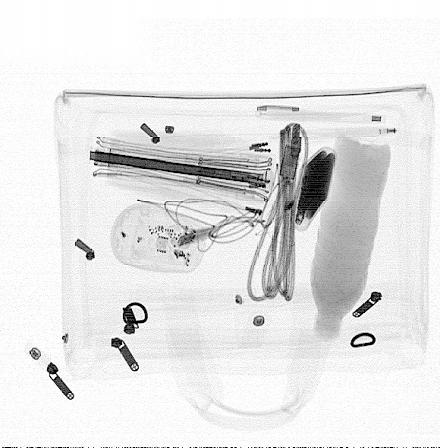Powerbank: (289, 145, 338, 232)
